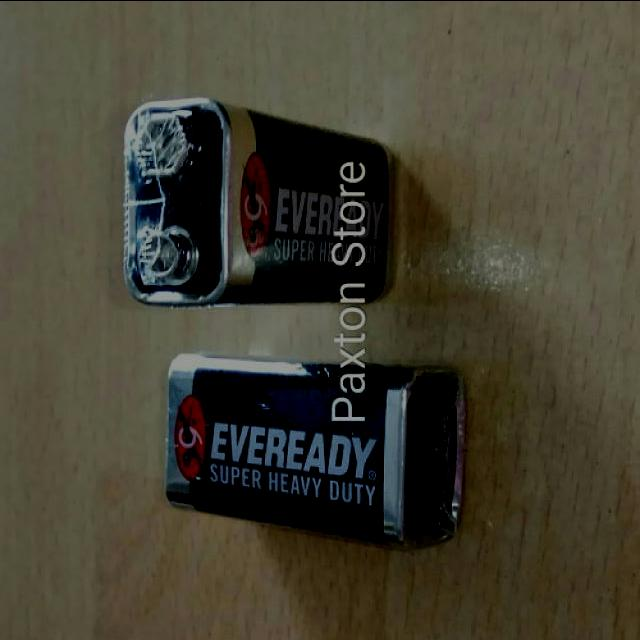9V: (134, 353, 506, 544), (98, 103, 416, 314)
